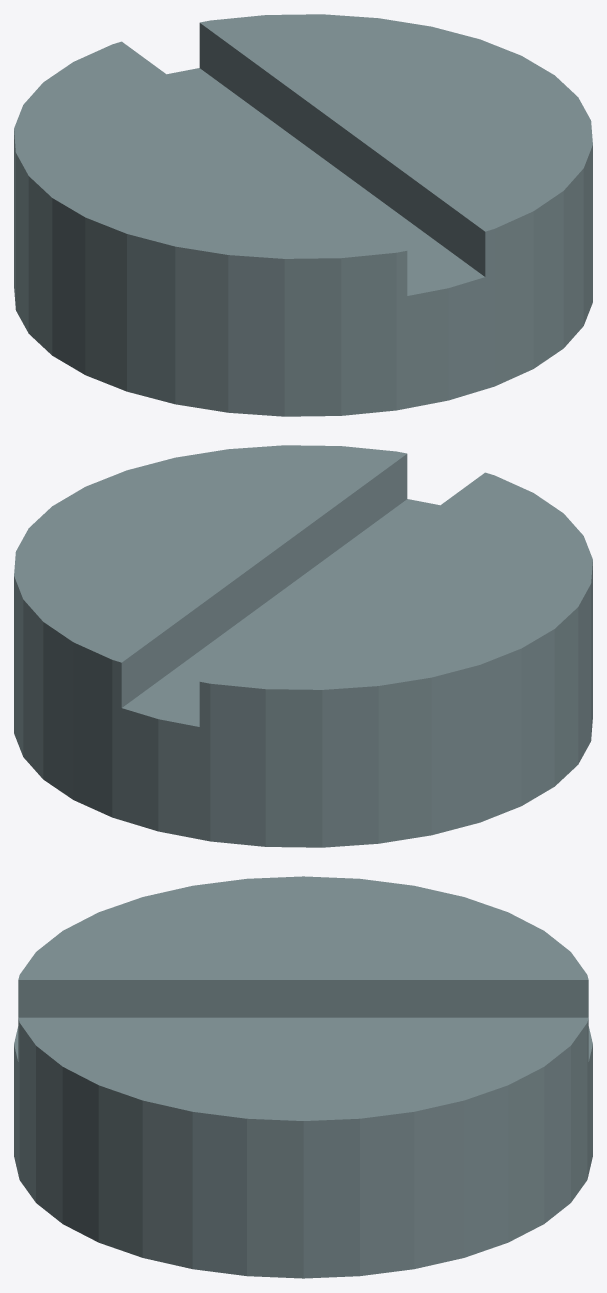
File: screw.fbx
3 views of the same model, one above another, from view 1: azimuth 30°, elevation 25°; view 2: azimuth 150°, elevation 25°; view 3: azimuth 270°, elevation 25° (orthographic).
Visible parts, largest first — view 1: Cylinder; view 2: Cylinder; view 3: Cylinder.
Boxes of the visible parts, x1=… form: Cylinder: x1=14, y1=14, x2=592, y2=416; Cylinder: x1=14, y1=445, x2=592, y2=847; Cylinder: x1=14, y1=876, x2=592, y2=1278.
Size of the model in its own units: 1 by 0.3 by 1.
